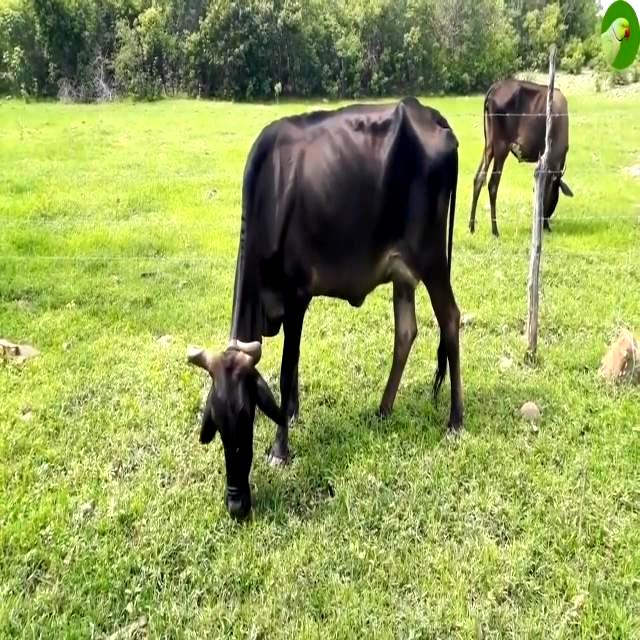COW: (188, 98, 462, 519), (469, 79, 546, 236), (544, 89, 571, 228)
